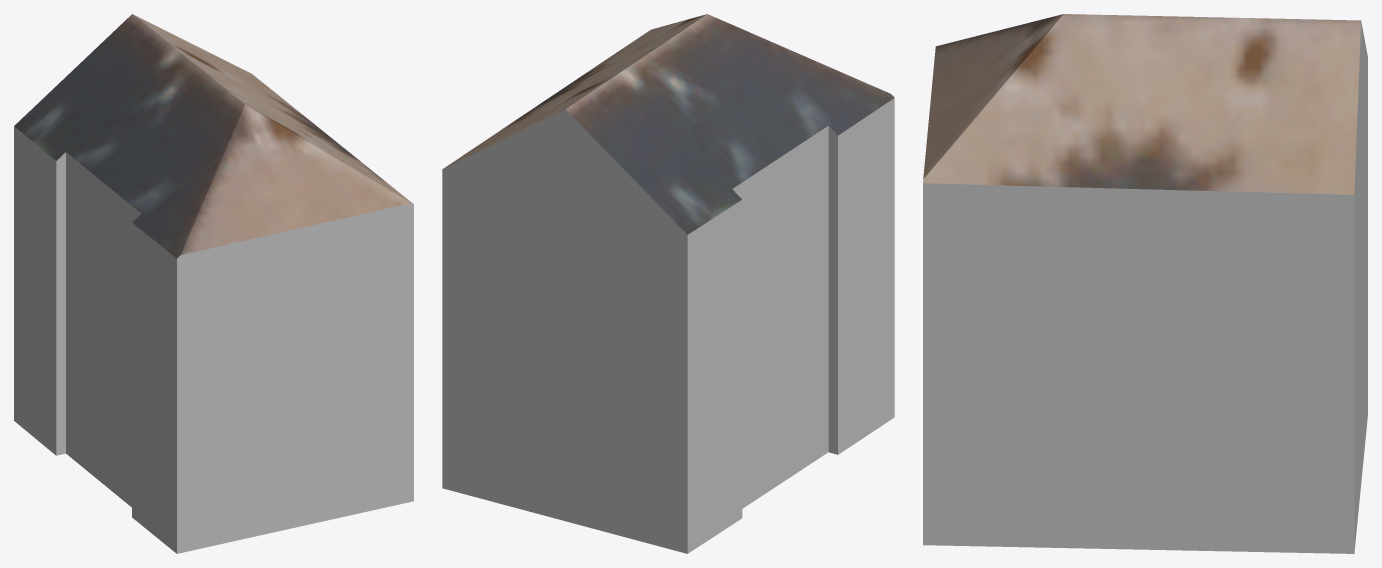
The model's file is DEBW_0010007Tx6G.gltf.
3 views of the same model, side by side, from view 1: azimuth 30°, elevation 25°; view 2: azimuth 150°, elevation 25°; view 3: azimuth 270°, elevation 25° (orthographic). The views are drawn at different scales.
Parts seen in each view (by area): view 1: Z_UP; view 2: Z_UP; view 3: Z_UP.
Part boxes in pixels (bbox=[...]): Z_UP: bbox=[14, 14, 413, 553]; Z_UP: bbox=[442, 14, 894, 553]; Z_UP: bbox=[923, 14, 1367, 553].
Size of the model in its own units: 10.53 by 15.57 by 13.5.
Materials: 2 (1 with a texture image).
